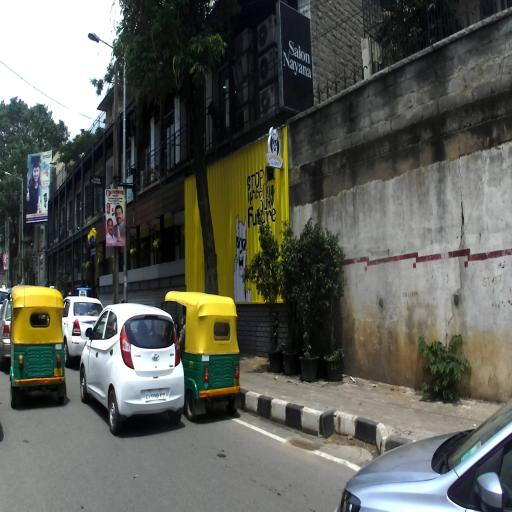street_light_0: (86, 31, 126, 62), (4, 171, 23, 184)
